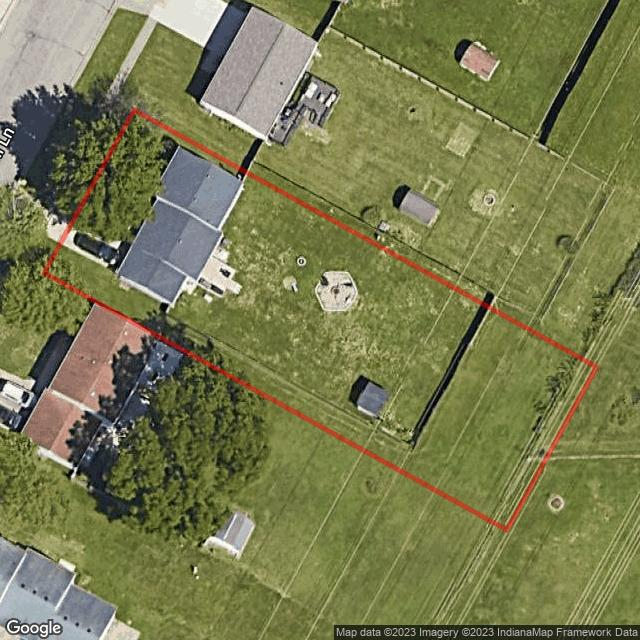Driveway: (64, 216, 130, 272)
Extra Driveway: (46, 214, 66, 242)
Extra Lawn: (24, 84, 103, 203)
Extra Sidewalk: (40, 94, 117, 230)
House: (118, 148, 244, 306)
Other: (198, 237, 242, 297), (315, 271, 358, 311), (350, 375, 390, 418), (284, 276, 298, 292)
